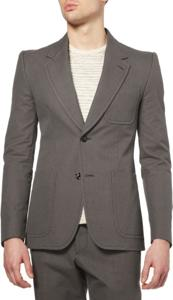F_M_suit jacket: (3, 39, 170, 245)
F_dress pants: (30, 227, 144, 299)
